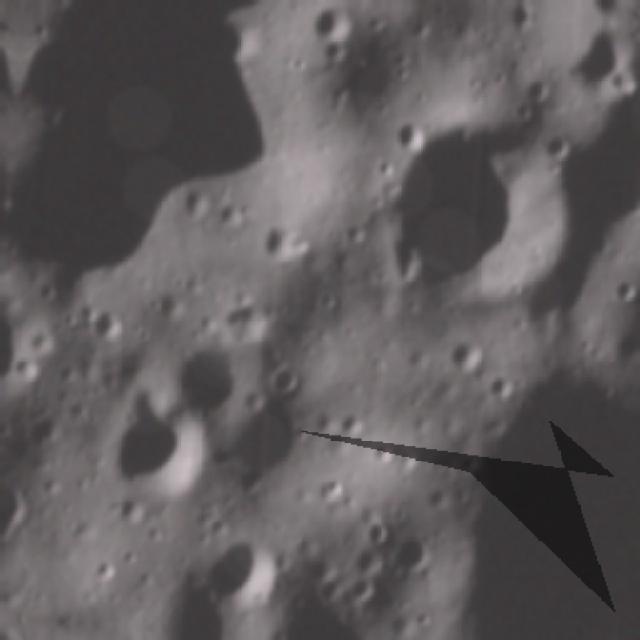crater: (352, 109, 572, 322), (100, 386, 232, 516), (219, 382, 336, 496), (158, 325, 272, 429), (0, 285, 66, 407), (205, 538, 289, 622), (561, 17, 640, 94), (279, 0, 357, 55), (0, 468, 43, 567), (382, 527, 446, 582), (89, 286, 134, 346), (255, 218, 308, 264), (504, 68, 558, 106), (389, 113, 433, 155), (441, 331, 485, 371)
